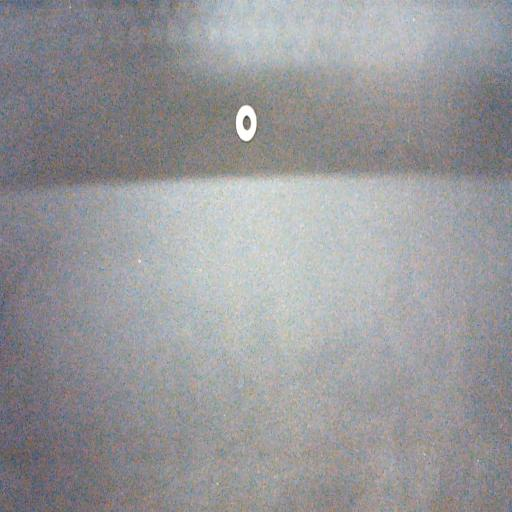washer: (236, 104, 257, 142)
